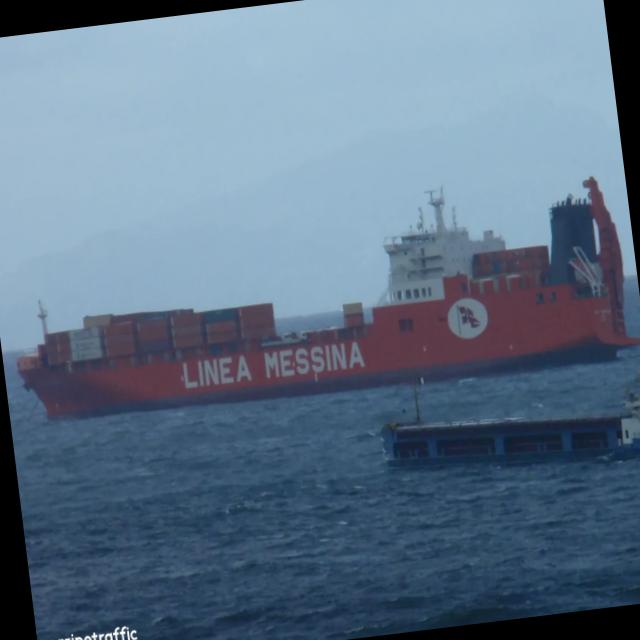Cargo: (16, 176, 640, 417)
